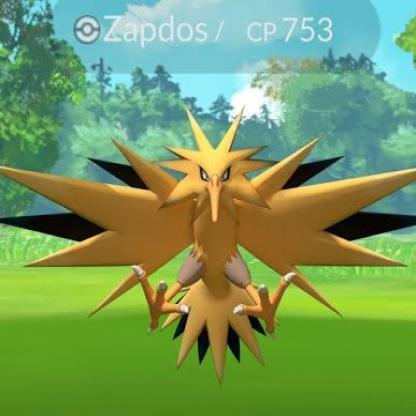Zapdos: (1, 104, 416, 386)
